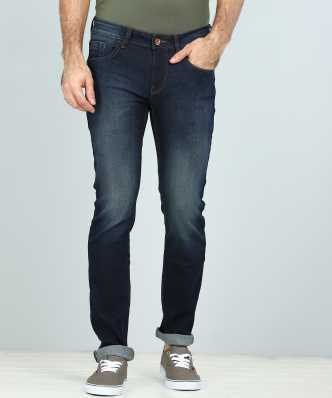jeans: (62, 16, 220, 348)
